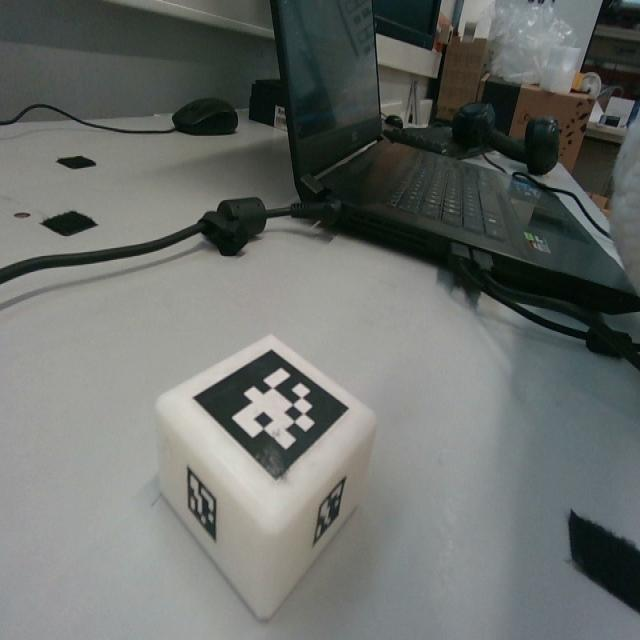Cube: (153, 332, 377, 620)
